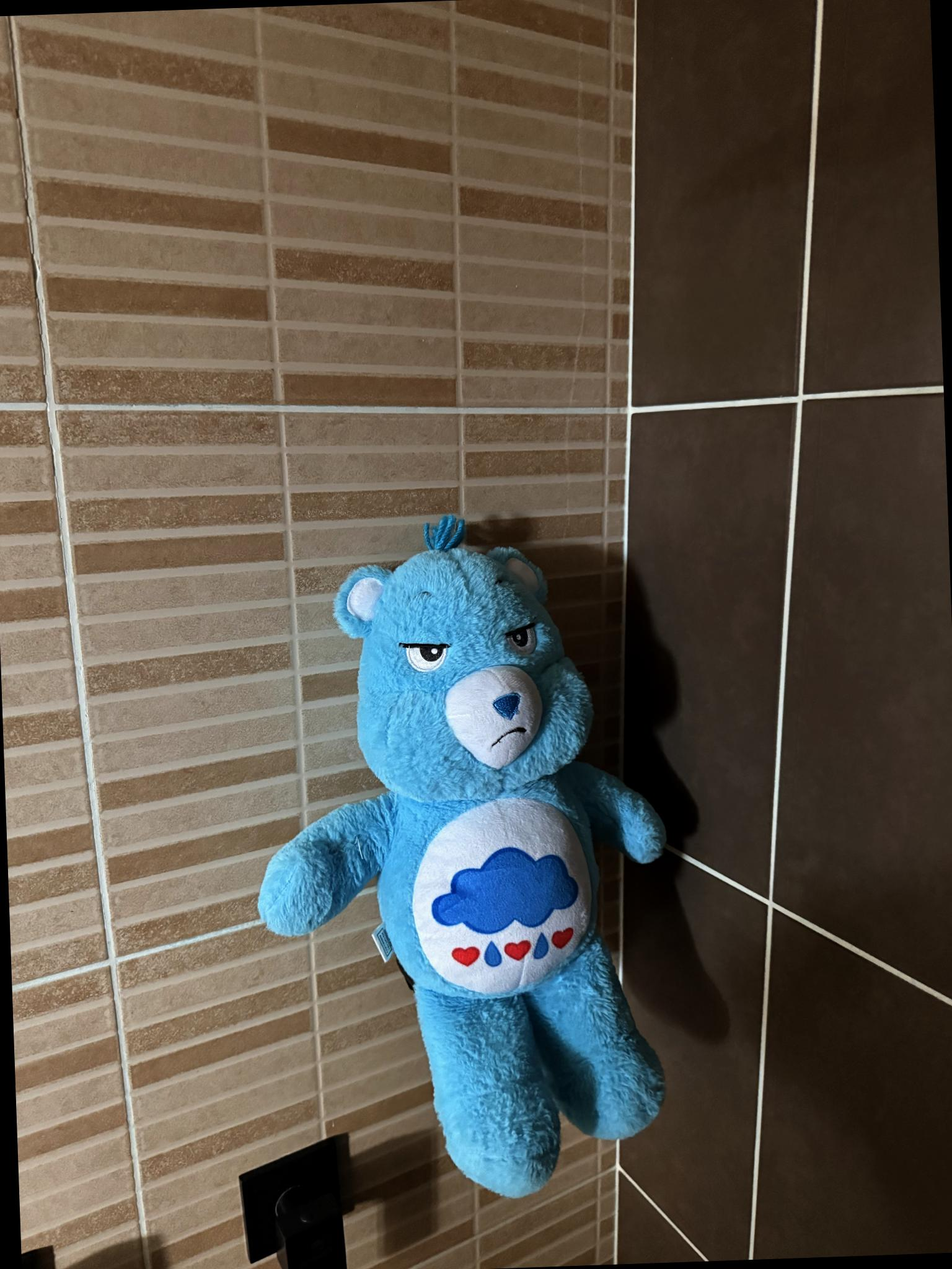peluche_Juan Jose: (337, 531, 634, 1193)
